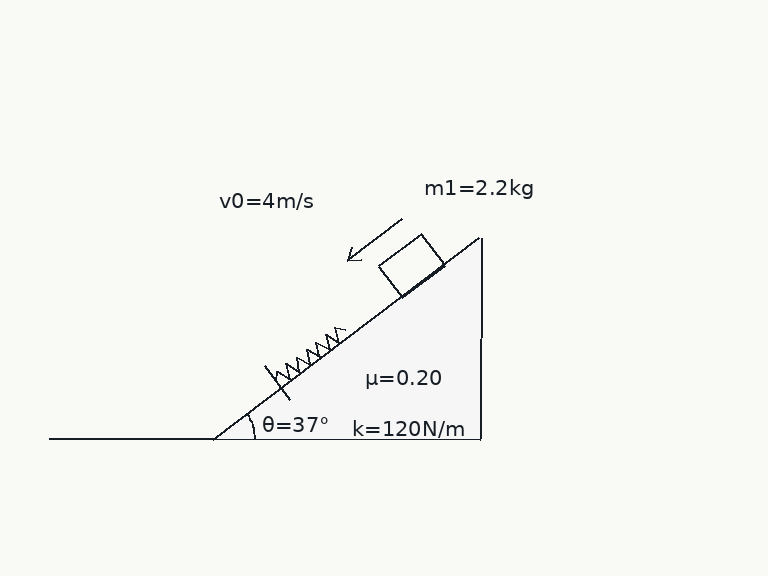block: (376, 232, 446, 299)
ramp: (213, 236, 482, 440)
spring: (274, 325, 347, 383)
